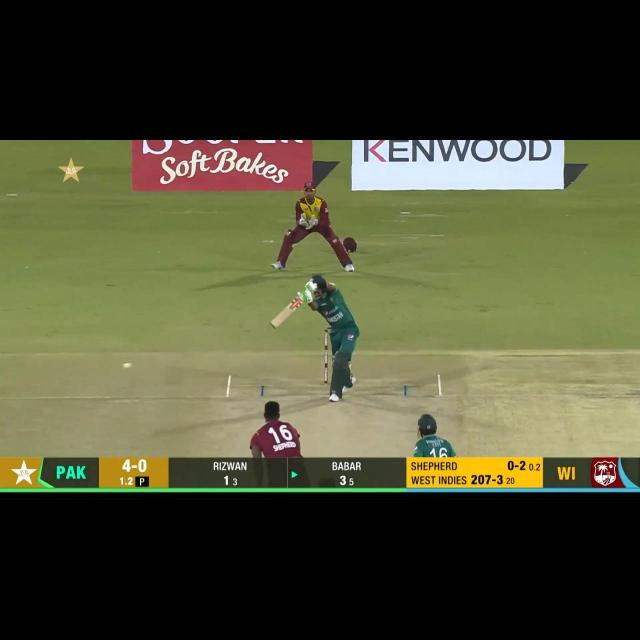bat: (269, 296, 303, 330)
toe: (269, 319, 280, 331)
